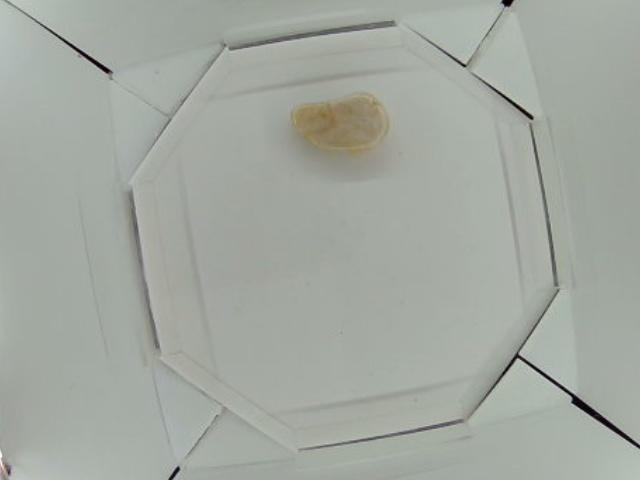Pebble: (288, 86, 387, 157)
